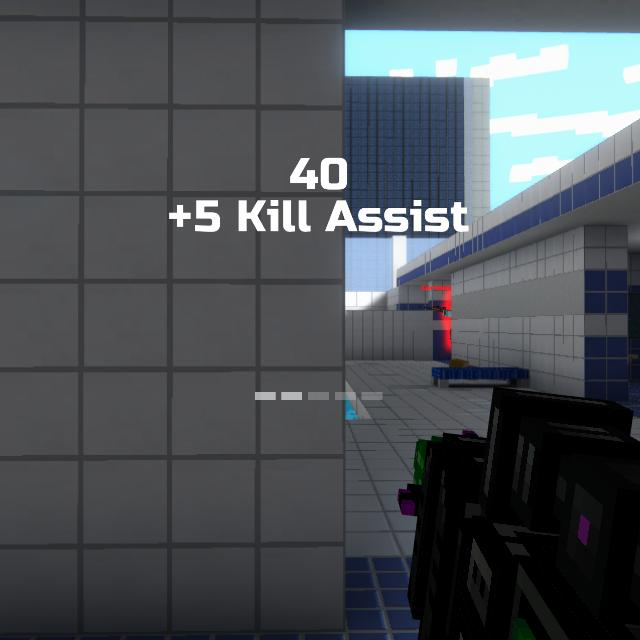Enemy: (444, 299, 452, 343)
